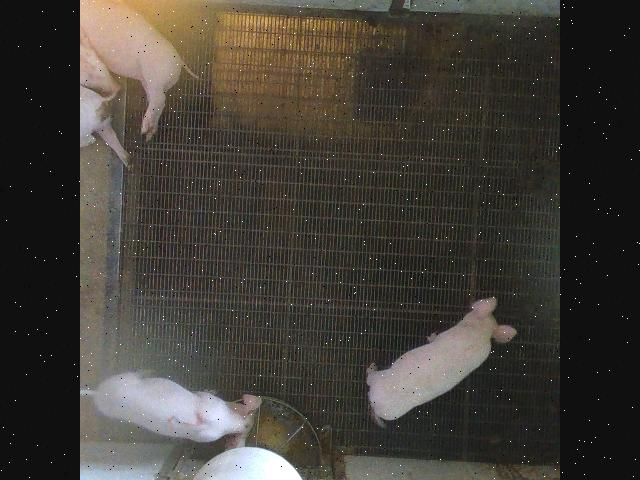pig-5: (81, 371, 262, 448)
